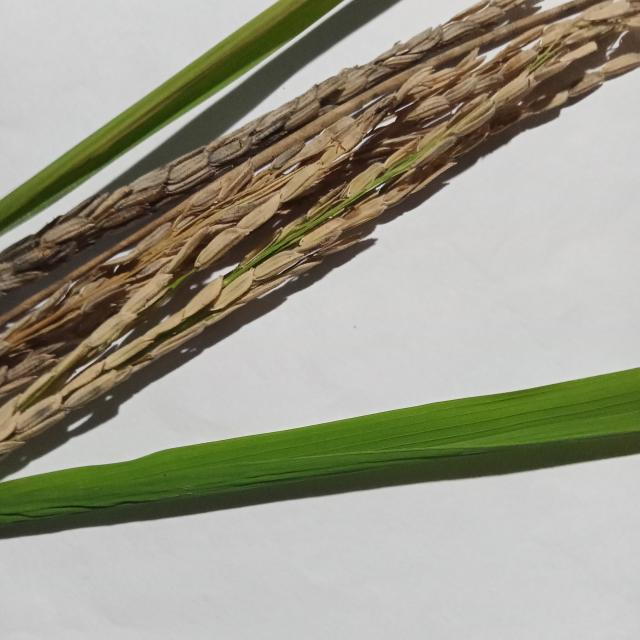Neck_Blast: (0, 0, 640, 474)
